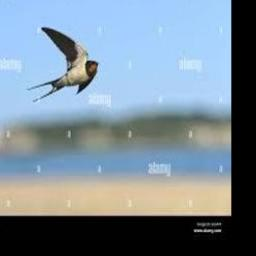Swallow: (28, 26, 98, 101)
